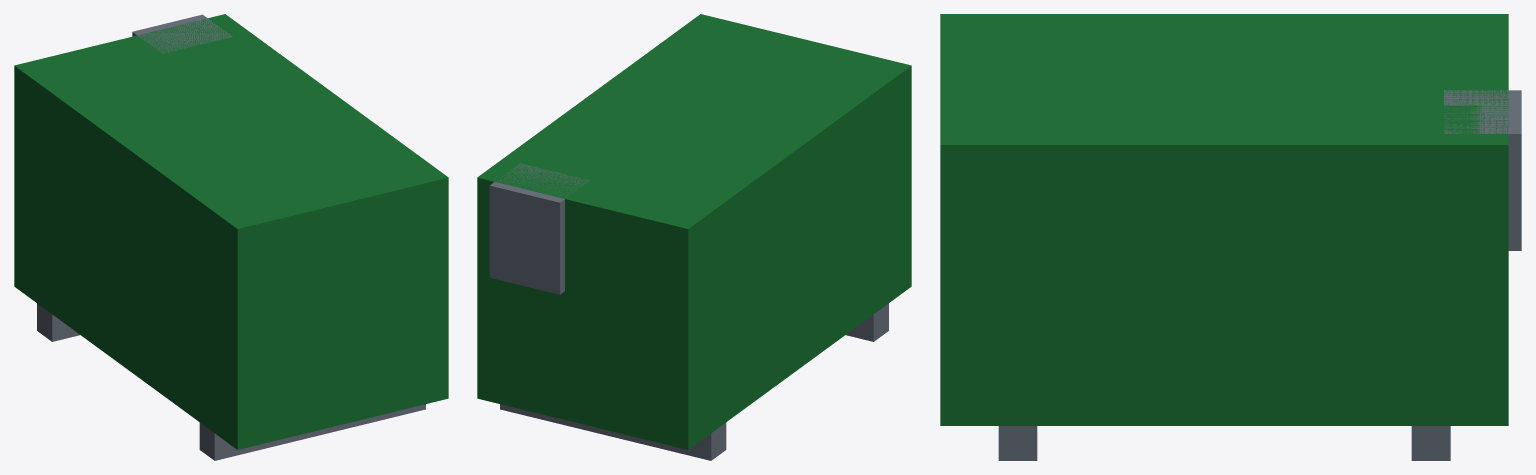
Rendered from plant.small.fuel_tank.glb.
3 views of the same model, side by side, from view 1: azimuth 30°, elevation 25°; view 2: azimuth 150°, elevation 25°; view 3: azimuth 270°, elevation 25° (orthographic). The views are drawn at different scales.
Parts seen in each view (by area): view 1: main__plastic_green, main__steel_painted; view 2: main__plastic_green, main__steel_painted; view 3: main__plastic_green, main__steel_painted.
Boxes of the visible parts, x1,y1,x2,y2 form: main__plastic_green: (14, 14, 448, 449); main__steel_painted: (37, 14, 425, 460); main__plastic_green: (477, 14, 911, 449); main__steel_painted: (489, 163, 888, 460); main__plastic_green: (940, 14, 1508, 425); main__steel_painted: (998, 90, 1521, 460).
Bounding box in the file's own units: 1.2 × 1.35 × 2.25.
